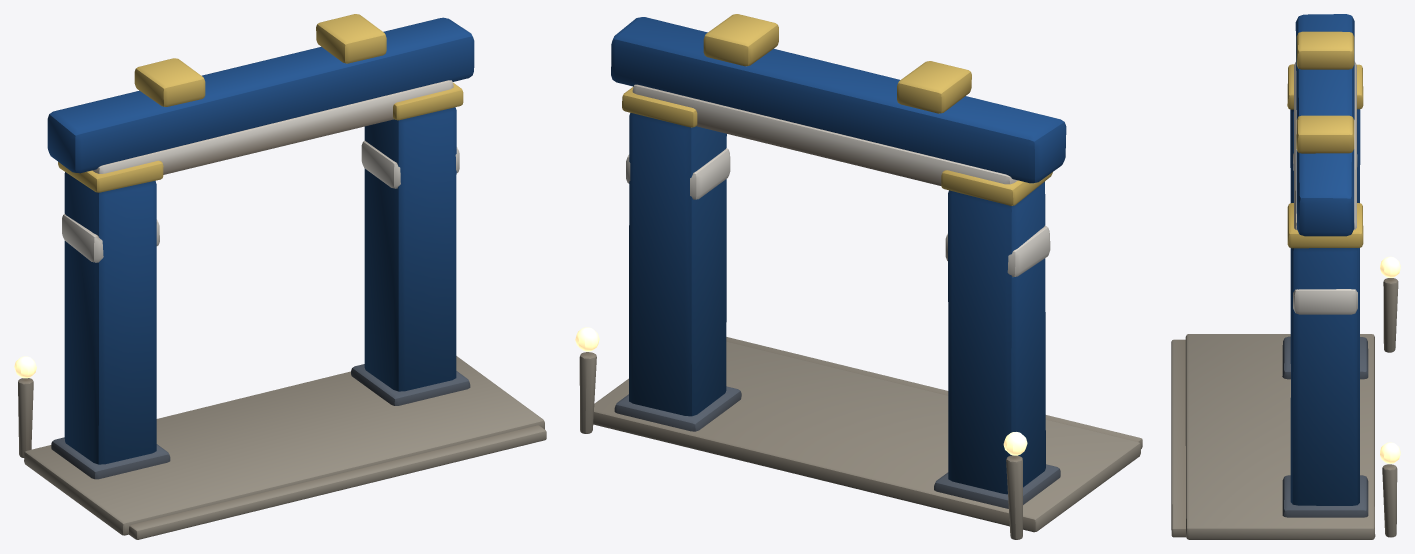
3 views of the same model, side by side, from view 1: azimuth 30°, elevation 25°; view 2: azimuth 150°, elevation 25°; view 3: azimuth 270°, elevation 25° (orthographic). The views are drawn at different scales.
Visible parts, largest first — view 1: gate_641849e8; view 2: gate_641849e8; view 3: gate_641849e8.
Part boxes in pixels (x1,y1,x2,y2): gate_641849e8: [14, 14, 546, 539]; gate_641849e8: [575, 14, 1142, 539]; gate_641849e8: [1171, 14, 1400, 539].
Size of the model in its own units: 5.14 by 4.44 by 2.55.
